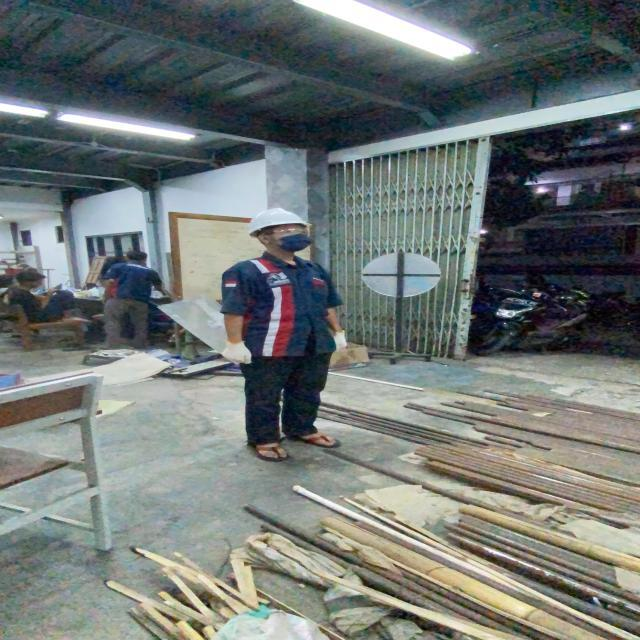glasses: (262, 224, 310, 237)
